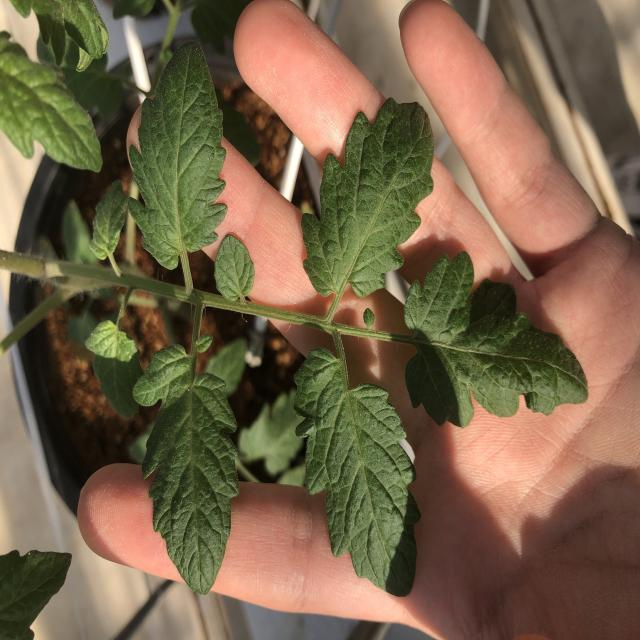Healthy Leaf: (294, 348, 422, 599), (405, 253, 589, 427), (303, 98, 436, 299), (135, 346, 241, 595), (129, 44, 228, 271), (87, 321, 144, 419), (91, 181, 129, 261), (216, 236, 256, 302), (196, 333, 215, 353), (364, 309, 377, 328)
